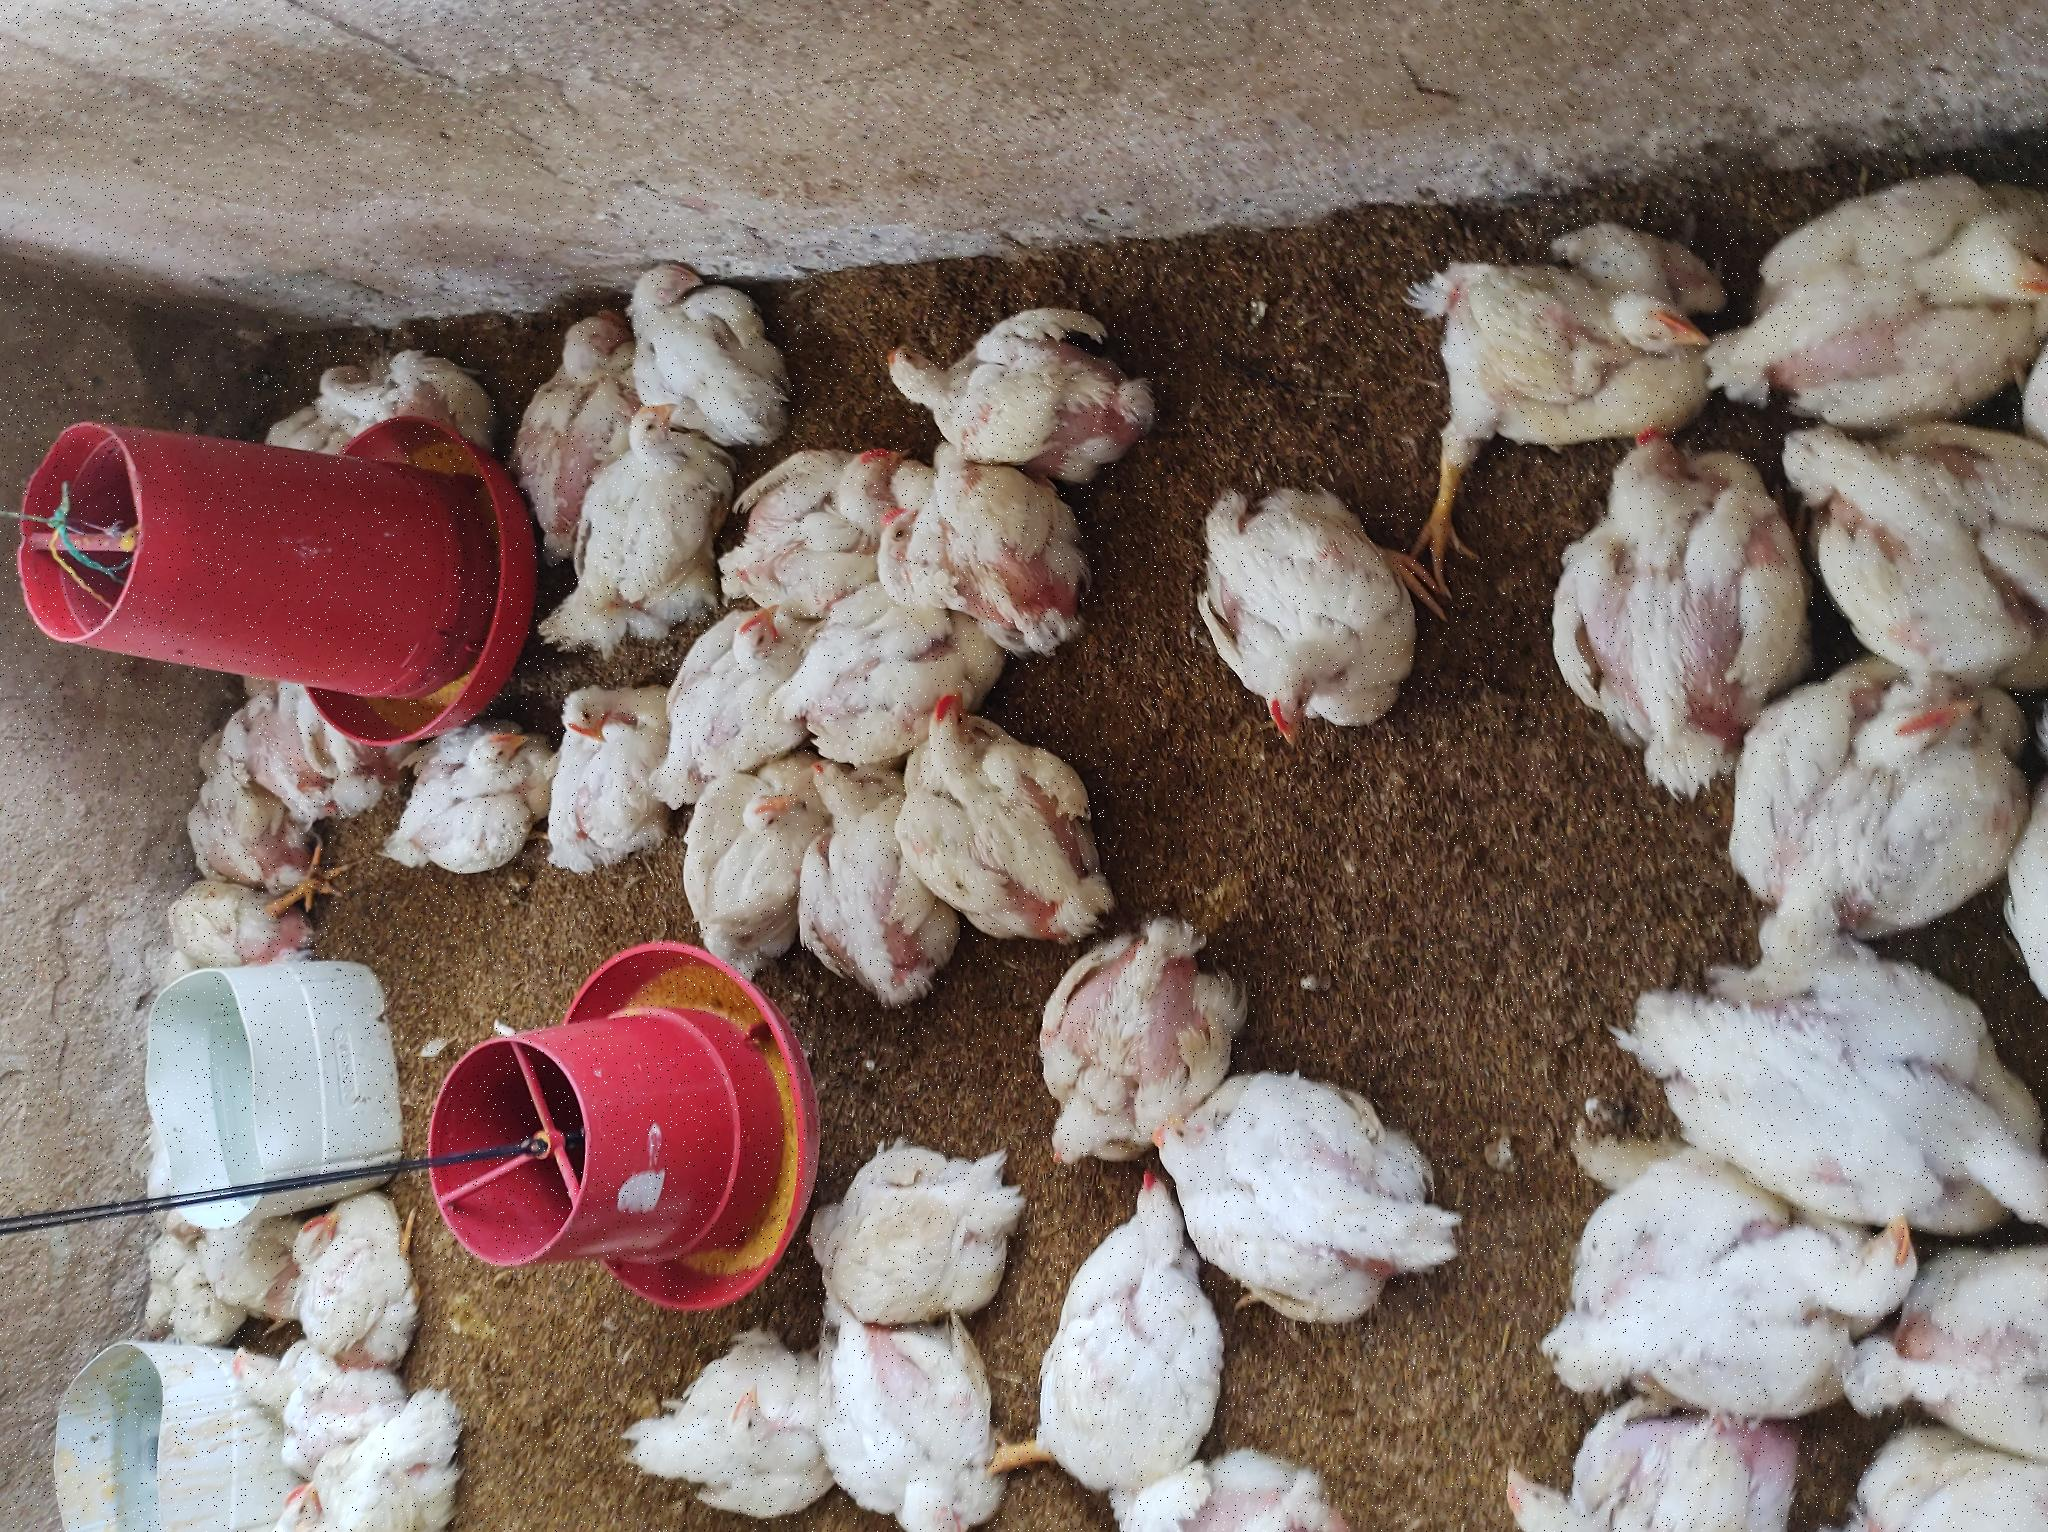Pollos: (228, 1173, 467, 1452), (364, 1035, 637, 1276), (780, 1213, 1059, 1437), (23, 1015, 344, 1189), (607, 890, 840, 1114), (1071, 877, 1256, 1146), (216, 790, 423, 1012), (16, 626, 208, 821), (886, 908, 1071, 1094), (911, 549, 1125, 710), (2, 835, 188, 1006), (1113, 1402, 1337, 1532), (547, 784, 772, 912), (1080, 288, 1219, 491), (169, 282, 352, 431), (1017, 507, 1247, 626), (668, 369, 830, 534), (684, 536, 883, 663), (1125, 631, 1293, 779), (587, 663, 759, 805), (771, 677, 928, 822), (640, 163, 764, 343), (960, 776, 1115, 903), (553, 154, 664, 319), (8, 1452, 169, 1532), (2, 262, 64, 402), (108, 220, 209, 299), (927, 859, 1017, 941)
